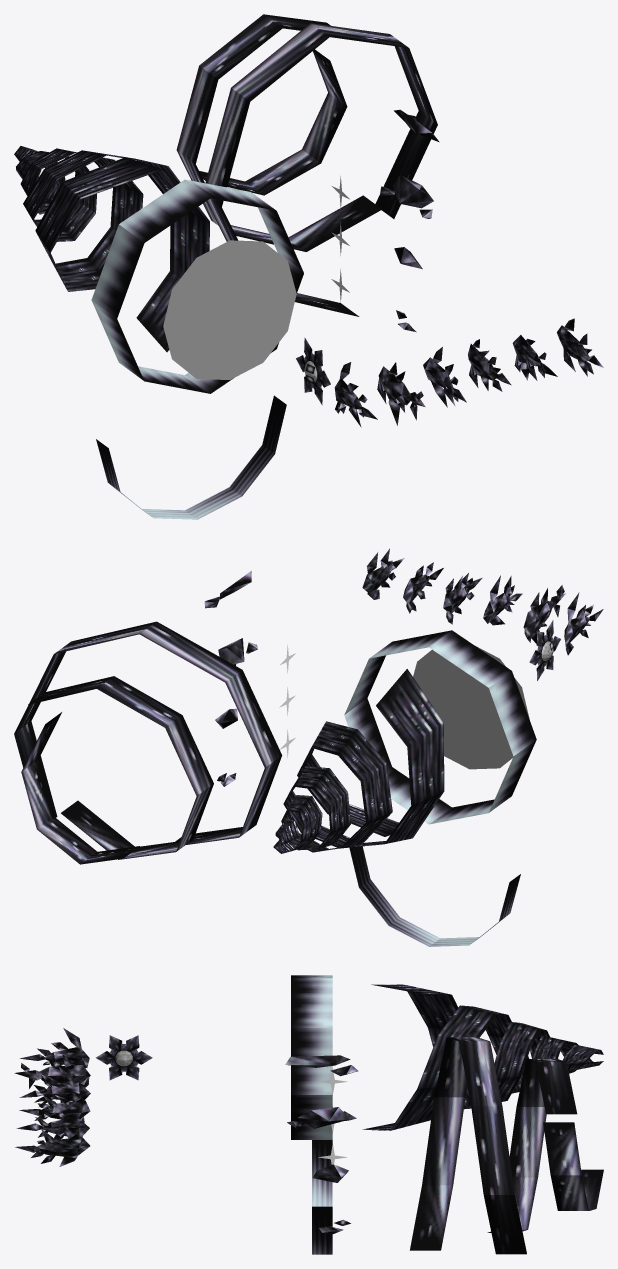
The picture shows the model from 3 angles, top to bottom: view 1: azimuth 30°, elevation 25°; view 2: azimuth 150°, elevation 25°; view 3: azimuth 270°, elevation 25°; orthographic projection. The views are drawn at different scales.
Parts seen in each view (by area): view 1: M_0098_1; view 2: M_0098_1; view 3: M_0098_1.
Part boxes in pixels (box(x1,y1,x2,y2)): M_0098_1: box(14, 14, 603, 519); M_0098_1: box(14, 548, 603, 946); M_0098_1: box(14, 975, 603, 1254).
Size of the model in its own units: 7.11 by 5.59 by 10.18.
2 materials, 2 textured.
